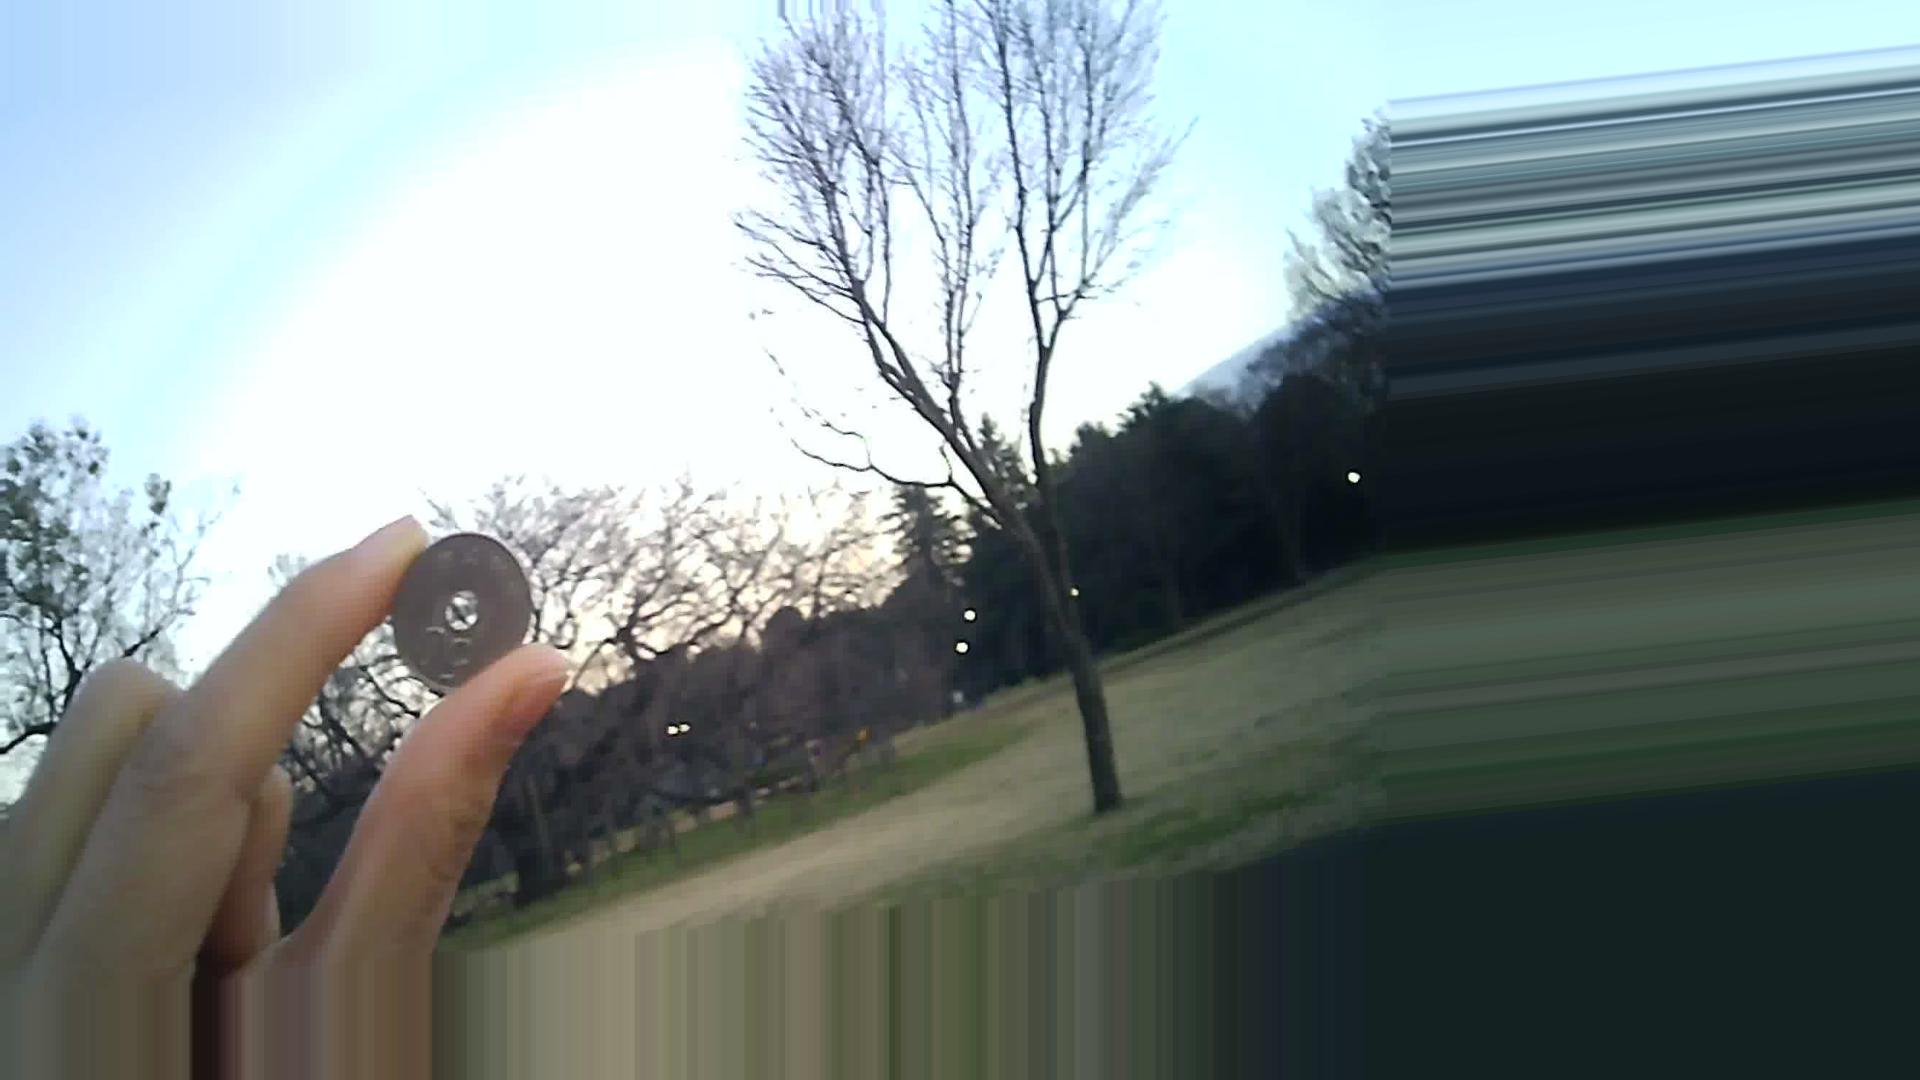10 Yen: (385, 531, 545, 683)
